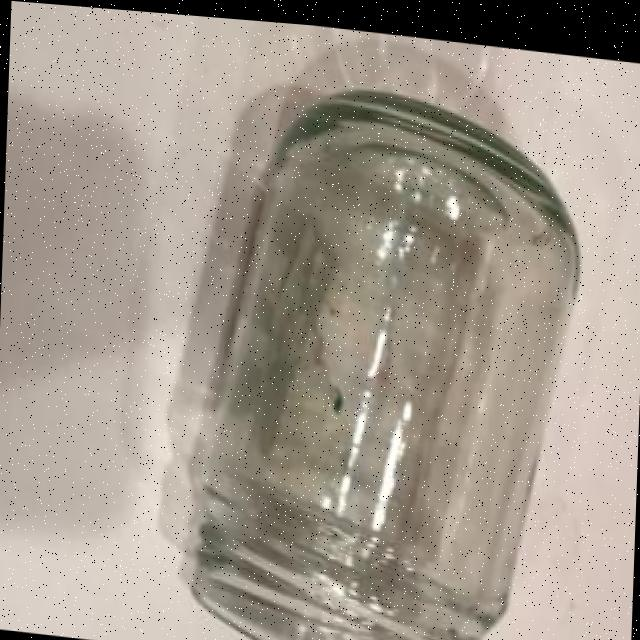glass: (179, 59, 592, 640)
